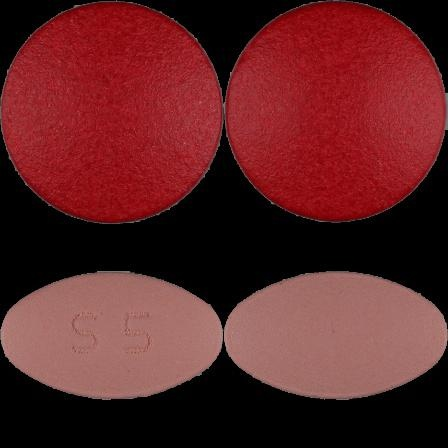53808-0918: (0, 0, 224, 224)
